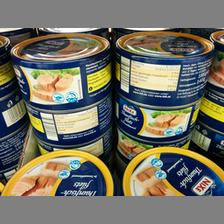Fisch: (10, 33, 112, 109), (114, 30, 214, 106), (120, 145, 224, 195), (1, 150, 116, 194), (20, 100, 113, 148), (112, 96, 206, 140)
